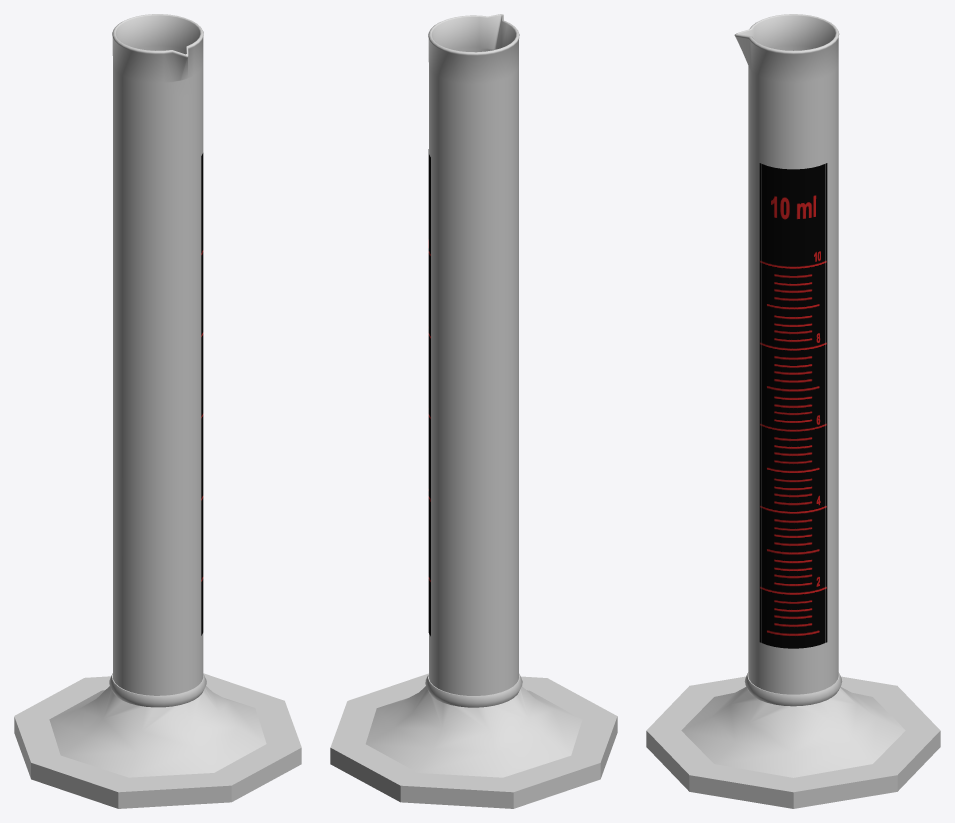
The model's file is alat_gelasUkur_10ml_syasya_01.fbx.
The picture shows the model from 3 angles, left to right: view 1: azimuth 30°, elevation 25°; view 2: azimuth 150°, elevation 25°; view 3: azimuth 270°, elevation 25°; orthographic projection.
Parts seen in each view (by area): view 1: gelasUkur_10ml; view 2: gelasUkur_10ml; view 3: gelasUkur_10ml.
Part boxes in pixels (x1,y1,x2,y2): gelasUkur_10ml: [14, 14, 301, 808]; gelasUkur_10ml: [330, 14, 617, 808]; gelasUkur_10ml: [646, 14, 940, 808].
Size of the model in its own units: 5.18 by 13.96 by 5.2.
Materials: 2 (1 with a texture image).
